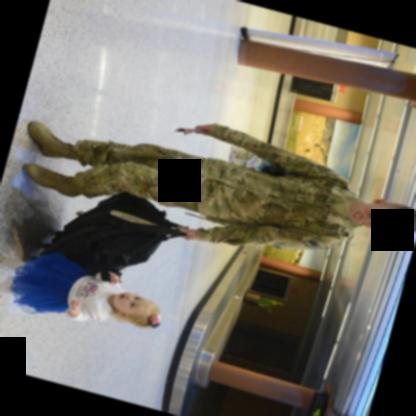backpack: (258, 164, 285, 176)
suitcase: (37, 190, 185, 280)
